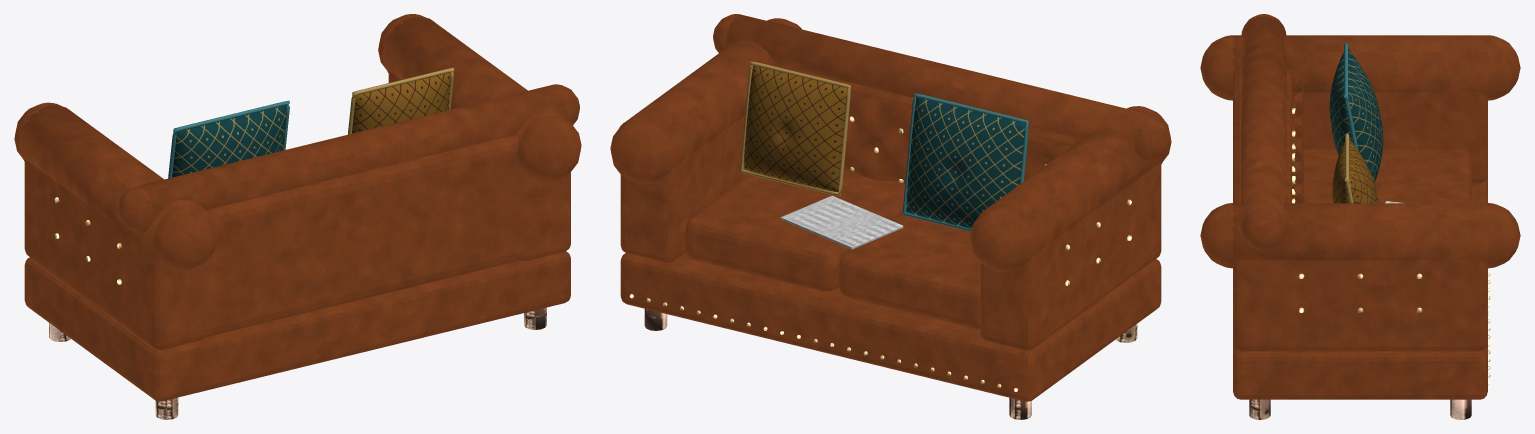
Rendered from liv-loveseat.glb.
3 renders of one model, left to right at view 1: azimuth 30°, elevation 25°; view 2: azimuth 150°, elevation 25°; view 3: azimuth 270°, elevation 25°, orthographic. The views are drawn at different scales.
Visible parts, largest first — view 1: LM_Loveseat, Cushion Teal 2, Cushion Ochre 2, Cushion Teal 2 Piping, Cushion Ochre 2 Piping; view 2: LM_Loveseat, Cushion Teal 2, Cushion Ochre 2, Newspaper.001, Cushion Ochre 2 Piping, Cushion Teal 2 Piping; view 3: LM_Loveseat, Cushion Teal 2, Cushion Ochre 2, Cushion Teal 2 Piping, Cushion Ochre 2 Piping.
Part boxes in pixels (x1,y1,x2,y2): LM_Loveseat: (14,14,581,419); Cushion Teal 2: (172,105,287,177); Cushion Ochre 2: (352,72,451,133); Cushion Teal 2 Piping: (168,100,289,178); Cushion Ochre 2 Piping: (347,67,454,134); LM_Loveseat: (610,14,1171,419); Cushion Teal 2: (906,97,1025,228); Cushion Ochre 2: (743,65,847,192); Newspaper.001: (780,195,903,249); Cushion Ochre 2 Piping: (740,61,850,196); Cushion Teal 2 Piping: (902,93,1028,231); LM_Loveseat: (1200,14,1520,419); Cushion Teal 2: (1329,48,1383,182); Cushion Ochre 2: (1332,138,1378,203); Cushion Teal 2 Piping: (1344,43,1358,151); Cushion Ochre 2 Piping: (1345,133,1353,203).
Bounding box in the file's own units: 1.86 × 0.9344 × 1.19.
Materials: 8 (4 with a texture image).
